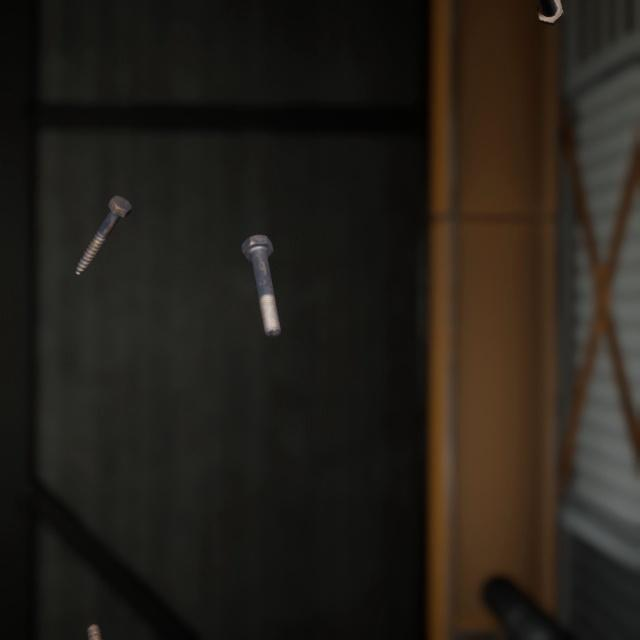bolt: (70, 175, 136, 263), (236, 213, 285, 324), (82, 595, 111, 640), (531, 0, 568, 23)
